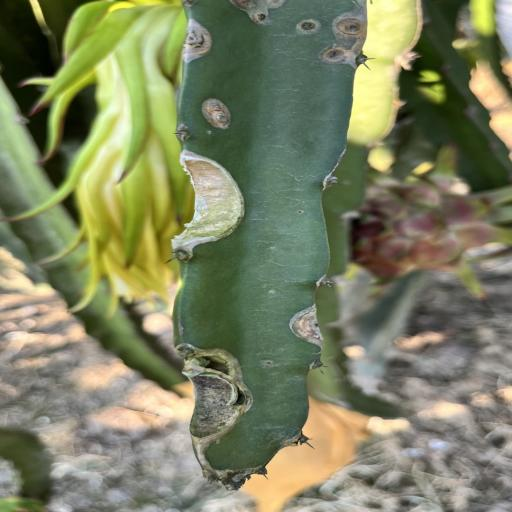stemcanker: (254, 354, 282, 370), (295, 207, 308, 221), (205, 130, 220, 140), (296, 208, 306, 221), (264, 288, 280, 296), (200, 129, 216, 137), (262, 358, 274, 368), (202, 127, 215, 136)
